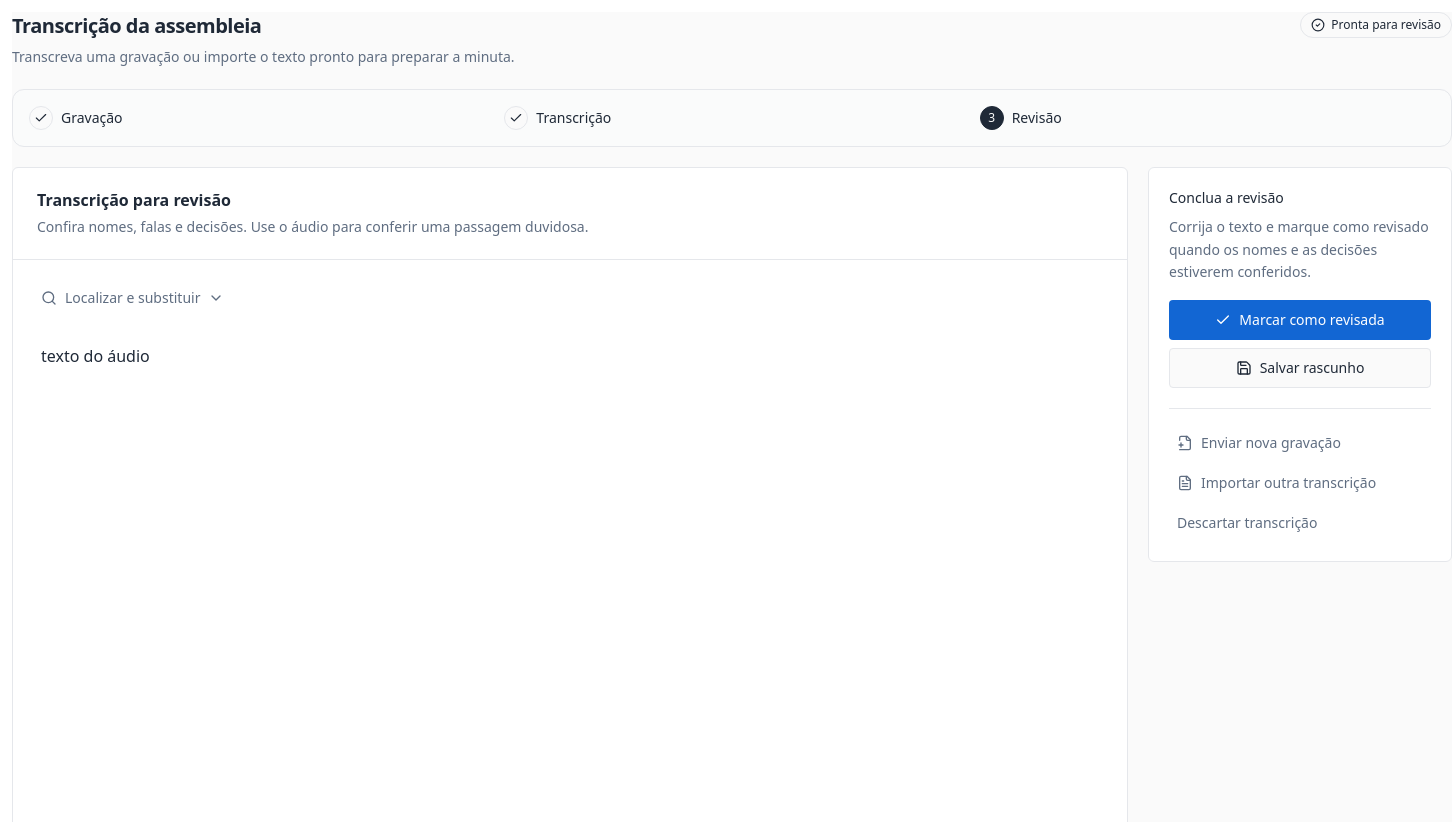
Test: AtaTranscriptionPanel · estado da revisão › surfaces a review that the database refused to store
Click the button "Marcar como revisada" at (1300, 320), box [1169,300,1431,340]
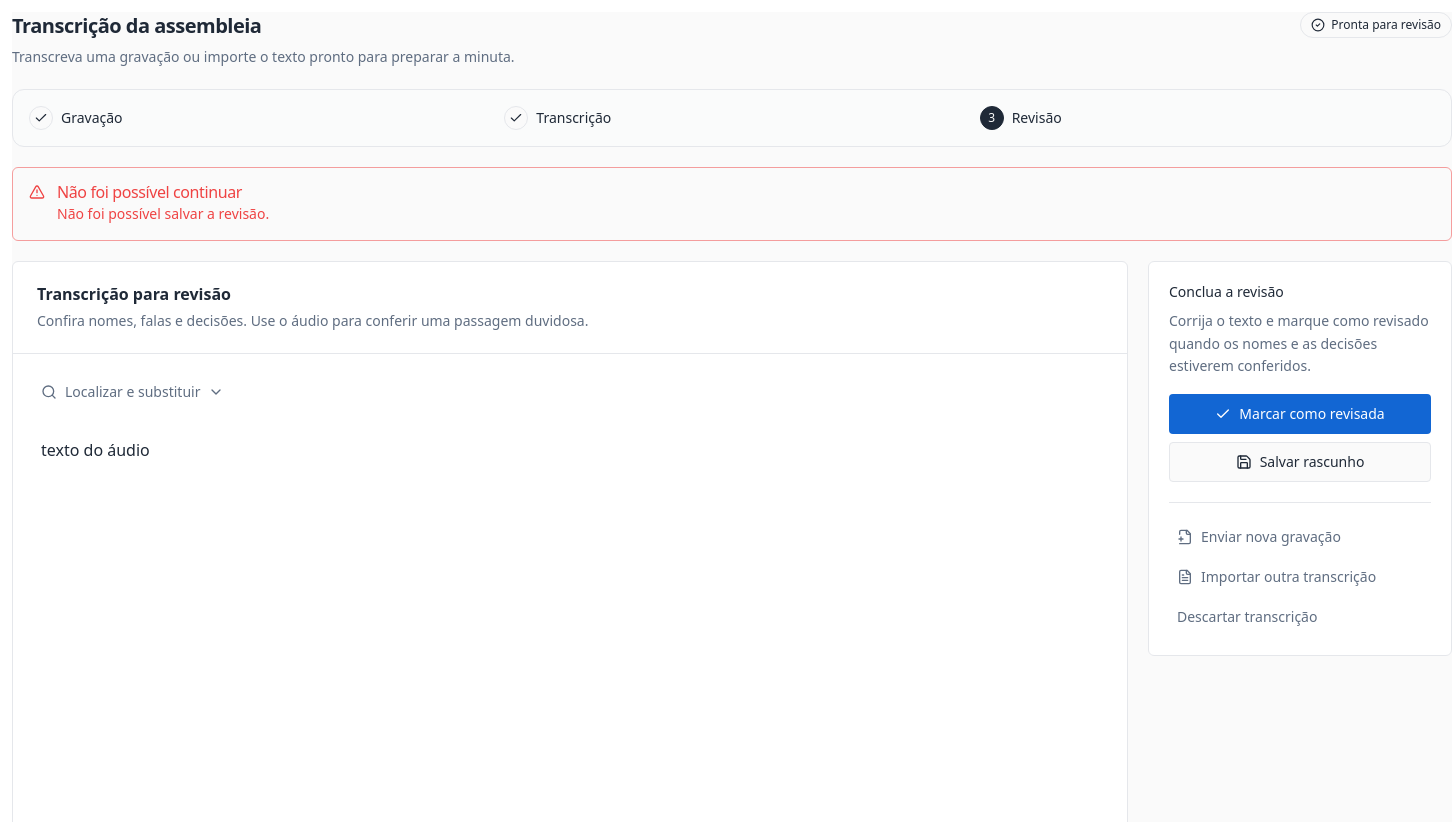
Expected: the text "Não foi possível salvar a revisão." is shown, [57,204,269,223]
